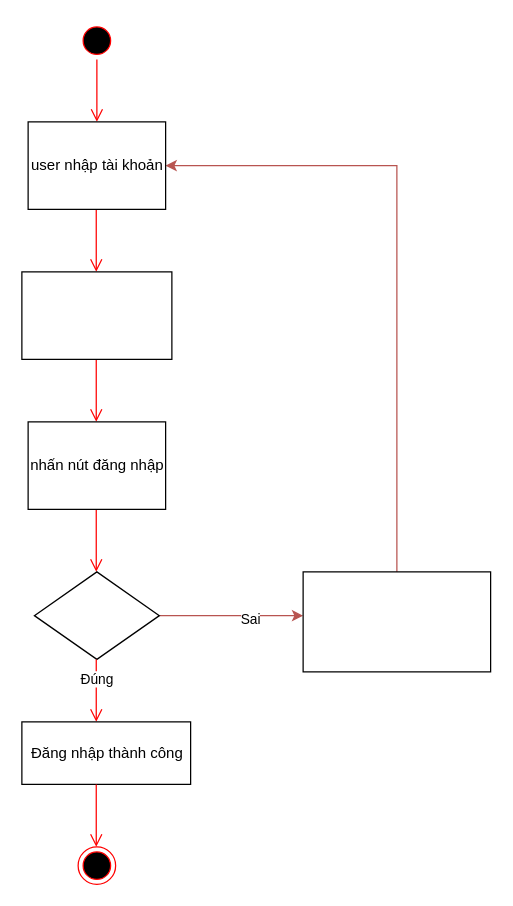
Image size: 513x906. Some labels were removed from this diagram. The centre of each missing label's shape, as x and y in pixels:
"thông báo sai tài khoản hoặc mât khẩu, yêu cầu nhập lại" goes at (x=396, y=621).
"users nhập mật khẩu" goes at (x=96, y=315).
